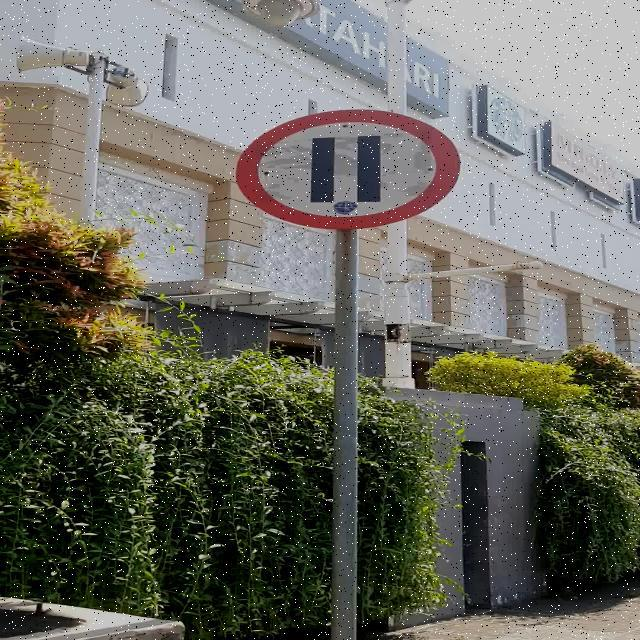Larangan Muatan - 10 ton: (235, 109, 460, 230)
